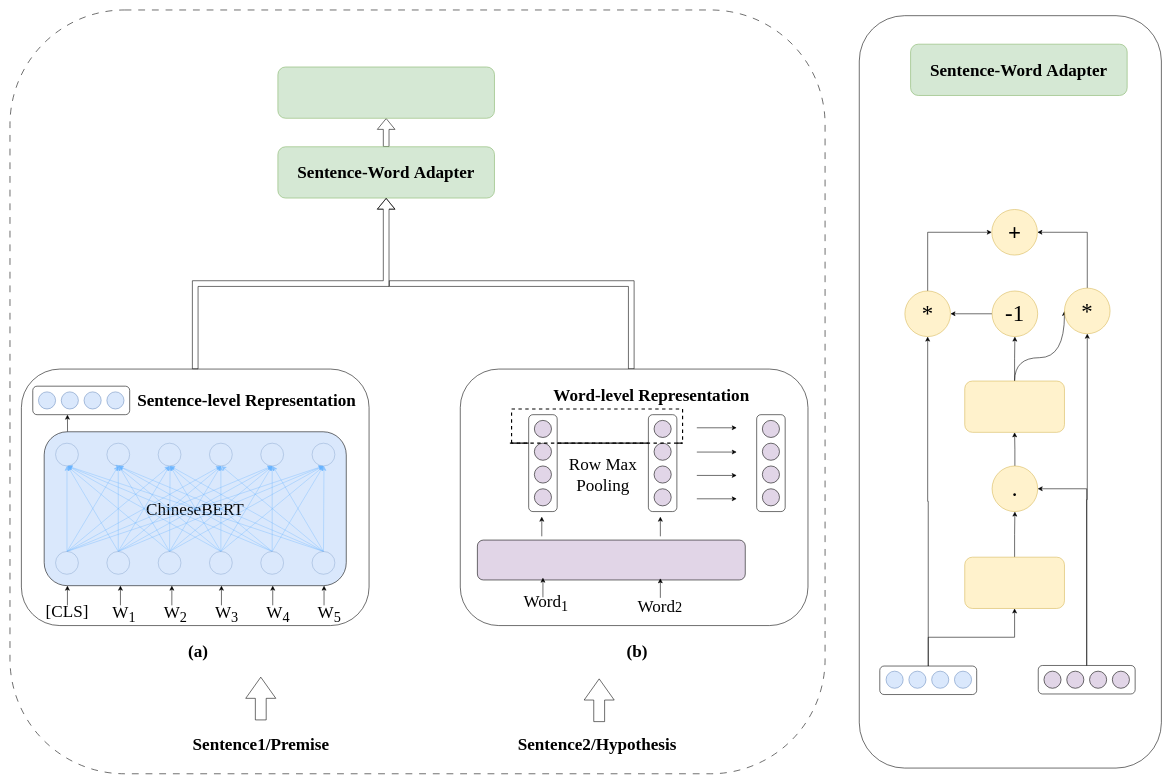
This 1171x784 diagram has some shape labels left out. The shapes that lost their labels are listed below. From the top down, each one's centre as x and y in pixels, then its label:
At pixel 385 92: "3-Class Softmax".
At pixel 1014 406: "Sigmoid".
At pixel 611 560: "Self-Attention".
At pixel 1014 582: "Linear".
